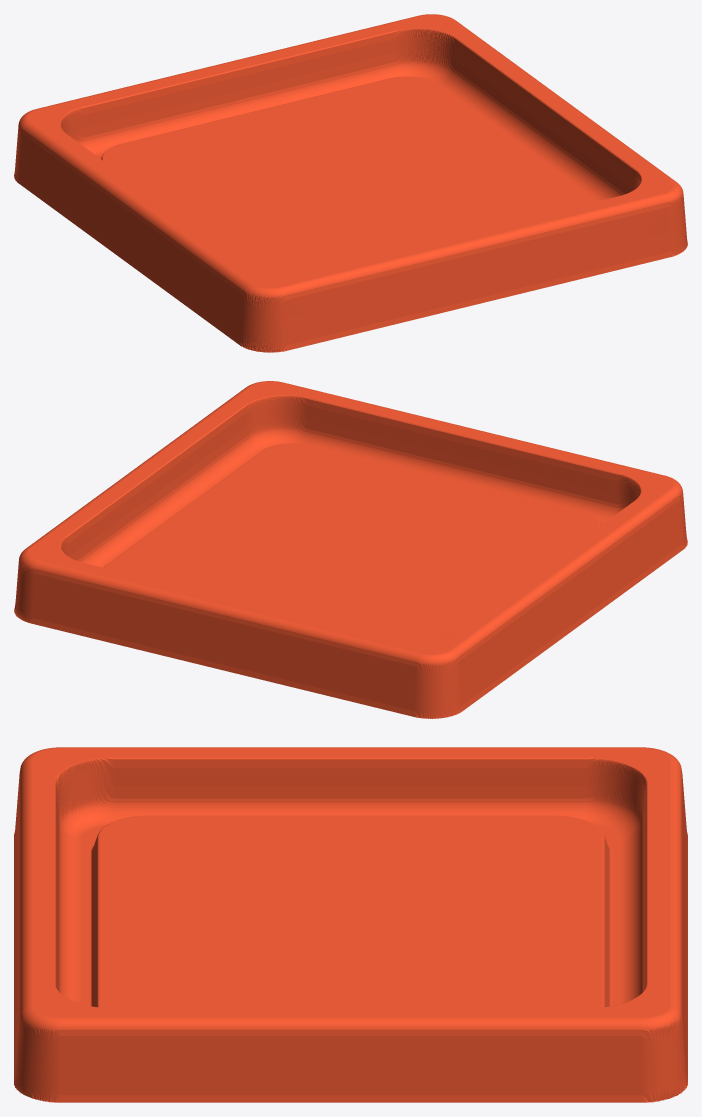
The model's file is mold.glb.
3 views of the same model, one above another, from view 1: azimuth 30°, elevation 25°; view 2: azimuth 150°, elevation 25°; view 3: azimuth 270°, elevation 25° (orthographic). The views are drawn at different scales.
Parts seen in each view (by area): view 1: geometry_0; view 2: geometry_0; view 3: geometry_0.
Part boxes in pixels (bbox=[...]): geometry_0: bbox=[14, 14, 687, 352]; geometry_0: bbox=[14, 381, 687, 718]; geometry_0: bbox=[14, 747, 687, 1102].
Bounding box in the file's own units: 0.1307 × 0.0165 × 0.1307.
